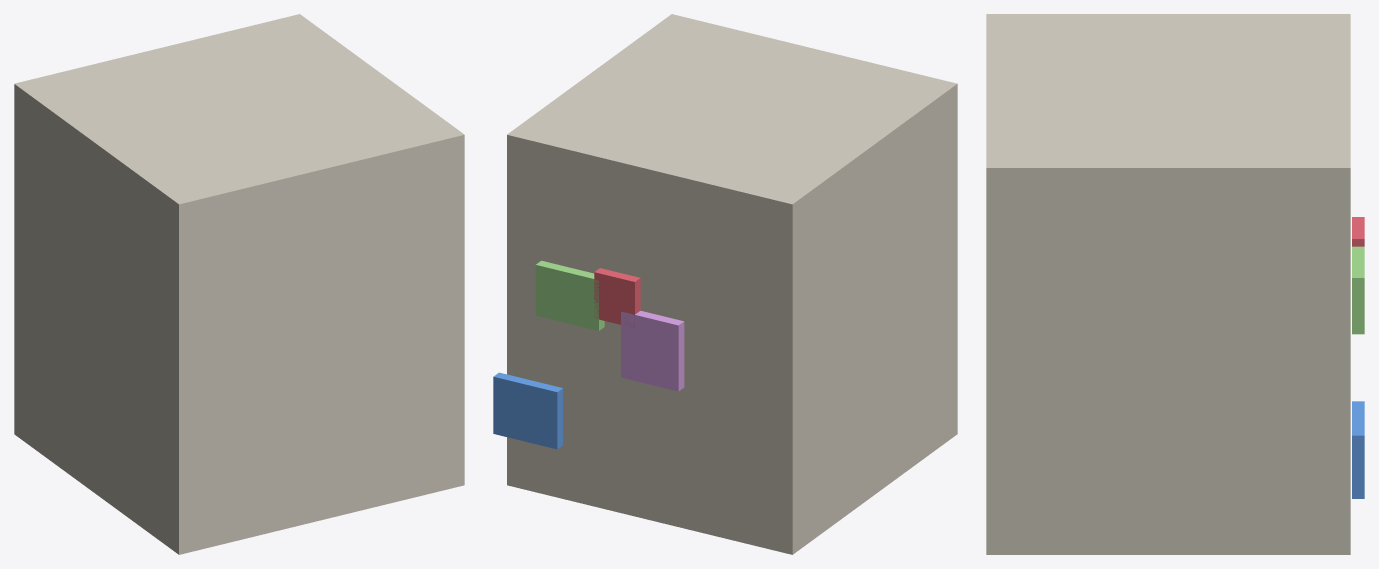
The model's file is pintor_manga_sup.glb.
3 views of the same model, side by side, from view 1: azimuth 30°, elevation 25°; view 2: azimuth 150°, elevation 25°; view 3: azimuth 270°, elevation 25° (orthographic). The views are drawn at different scales.
Visible parts, largest first — view 1: pintor_manga_sup; view 2: pintor_manga_sup; view 3: pintor_manga_sup.
Boxes of the visible parts, x1,y1,x2,y2 form: pintor_manga_sup: (14, 14, 464, 554); pintor_manga_sup: (493, 14, 957, 554); pintor_manga_sup: (986, 14, 1364, 554).
Bounding box in the file's own units: 0.2973 × 0.34 × 0.301.
